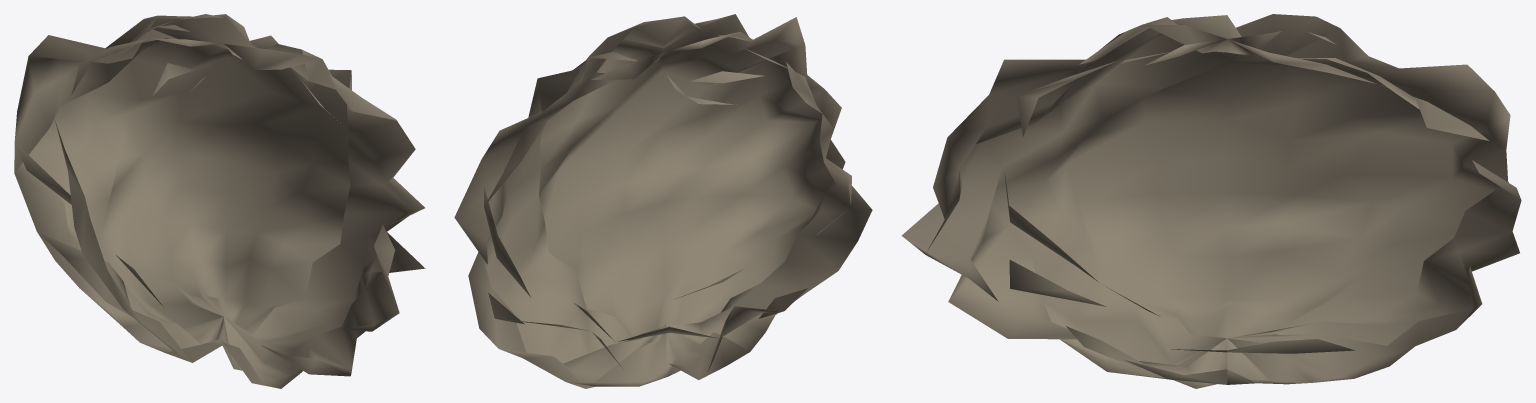
File: rock_5.glb
3 renders of one model, left to right at view 1: azimuth 30°, elevation 25°; view 2: azimuth 150°, elevation 25°; view 3: azimuth 270°, elevation 25°, orthographic. The views are drawn at different scales.
Visible parts, largest first — view 1: rock_mesh; view 2: rock_mesh; view 3: rock_mesh.
Boxes of the visible parts, bbox=[...] form: rock_mesh: bbox=[14, 14, 425, 388]; rock_mesh: bbox=[454, 14, 872, 388]; rock_mesh: bbox=[901, 14, 1521, 388].
Size of the model in its own units: 1.55 by 1.58 by 2.61.
